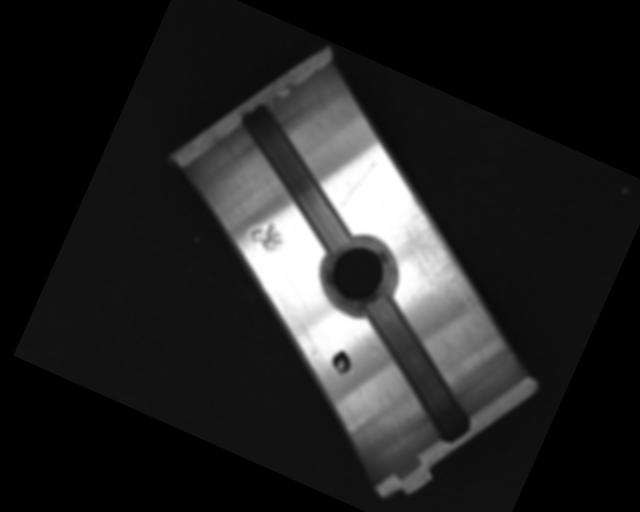blot: (327, 346, 357, 378)
bruise: (245, 213, 290, 256)
gap: (207, 98, 384, 254), (331, 293, 503, 447)
hole: (306, 223, 409, 327)
nick: (335, 156, 375, 217)
scratch: (369, 190, 520, 329)
